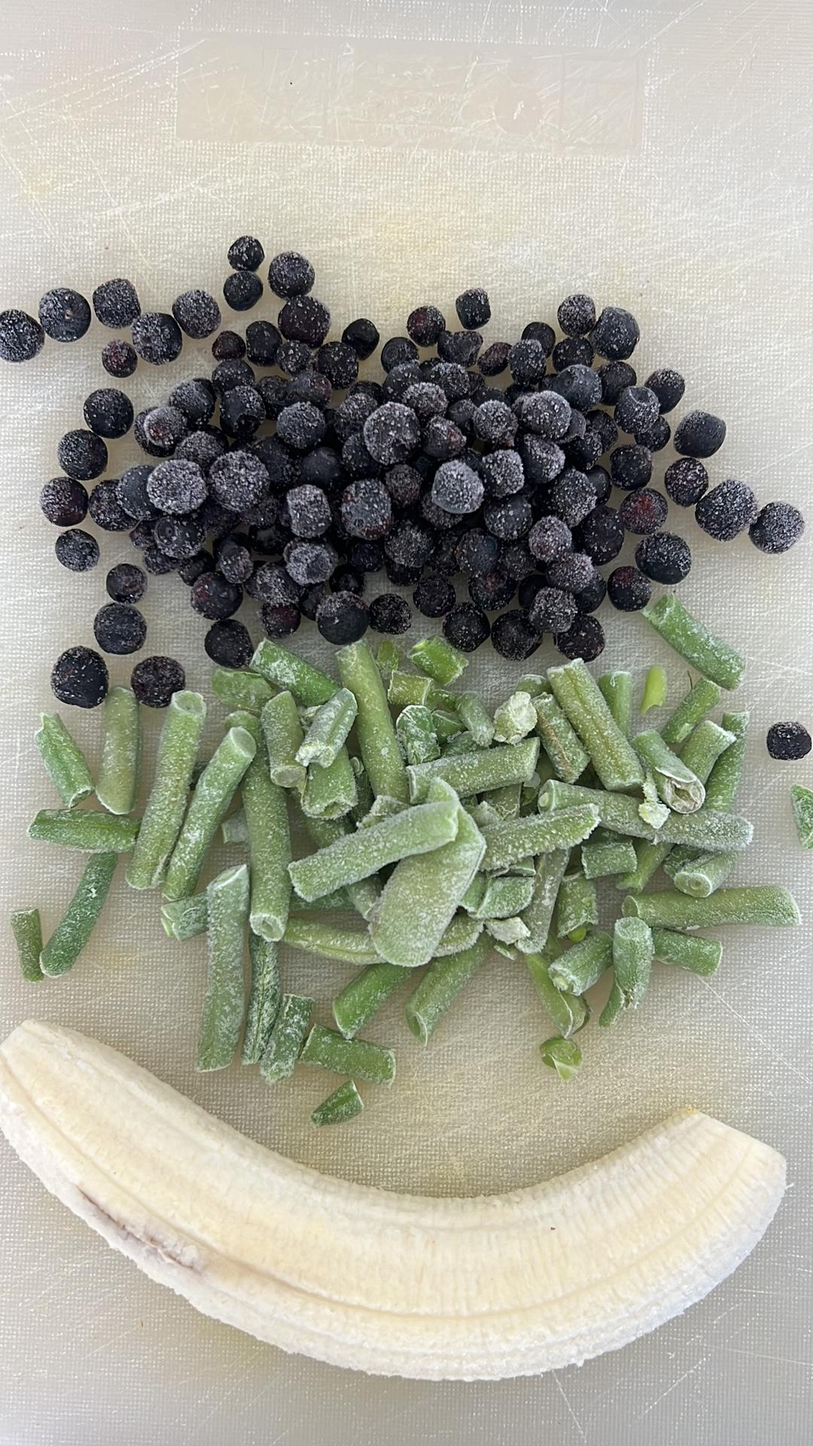blueberry: (697, 480, 752, 541), (369, 403, 417, 471), (50, 646, 107, 703), (636, 531, 693, 586), (317, 588, 368, 648), (385, 520, 440, 573), (574, 504, 622, 564), (81, 383, 132, 438), (750, 500, 803, 552), (150, 457, 199, 512), (126, 313, 181, 361), (340, 481, 387, 537), (544, 469, 595, 520), (283, 486, 332, 539), (96, 601, 143, 656), (285, 542, 345, 585), (56, 429, 108, 478), (132, 657, 182, 706), (212, 451, 261, 500), (205, 620, 252, 671), (311, 339, 362, 385), (437, 457, 480, 511), (214, 383, 261, 432), (172, 287, 218, 337), (303, 450, 353, 496), (256, 601, 311, 642), (276, 403, 327, 447), (95, 271, 136, 325), (456, 287, 500, 337), (40, 291, 83, 342), (116, 464, 155, 520), (269, 248, 315, 295), (596, 305, 640, 353), (281, 297, 326, 343), (530, 387, 568, 441), (156, 514, 202, 557), (43, 476, 84, 524), (523, 442, 571, 483), (554, 621, 607, 657), (662, 459, 711, 497), (0, 304, 35, 357), (90, 483, 125, 535), (493, 616, 545, 651), (252, 566, 302, 602), (218, 546, 258, 591), (169, 379, 211, 421), (56, 531, 99, 572), (458, 528, 501, 569), (677, 413, 721, 453), (434, 325, 480, 363), (382, 357, 420, 403), (474, 400, 515, 442), (598, 358, 641, 398), (452, 607, 487, 656), (370, 589, 407, 635), (196, 577, 237, 618), (178, 545, 215, 590), (481, 500, 528, 535), (769, 720, 809, 761), (256, 440, 295, 482), (145, 404, 183, 447), (624, 484, 657, 533), (315, 342, 355, 382), (404, 305, 444, 345), (555, 561, 597, 599), (620, 385, 656, 429), (343, 431, 376, 479), (612, 452, 653, 490), (420, 416, 461, 454), (288, 367, 330, 404), (420, 487, 457, 528), (470, 572, 513, 607), (563, 433, 607, 467), (534, 520, 568, 564), (251, 374, 291, 411), (347, 537, 387, 574), (558, 292, 594, 333), (483, 451, 519, 492), (431, 361, 472, 397), (213, 275, 263, 304), (478, 339, 516, 377), (575, 586, 623, 616), (232, 494, 278, 525), (226, 231, 264, 268), (637, 411, 672, 451), (202, 499, 237, 538), (535, 592, 575, 626), (513, 318, 554, 351), (611, 571, 652, 604), (647, 371, 687, 404), (408, 387, 449, 418), (378, 338, 419, 368), (499, 542, 534, 577), (586, 408, 620, 444), (517, 568, 548, 606), (209, 363, 256, 388), (108, 565, 140, 601), (513, 339, 537, 387), (132, 402, 154, 454), (343, 397, 373, 435), (390, 468, 420, 506), (558, 412, 594, 442), (276, 339, 311, 369), (182, 430, 218, 459), (585, 472, 616, 505), (246, 322, 271, 362), (104, 343, 134, 376), (206, 332, 237, 363), (245, 522, 276, 553), (130, 519, 159, 551), (348, 316, 370, 357), (420, 583, 448, 615), (143, 548, 169, 574)
green bean: (527, 772, 762, 854), (230, 713, 316, 937), (284, 792, 467, 892), (162, 719, 249, 892), (133, 690, 201, 889), (393, 786, 472, 956), (256, 903, 483, 958), (539, 659, 636, 786), (396, 729, 545, 804), (393, 933, 493, 1042), (33, 851, 116, 973), (642, 600, 748, 692), (466, 802, 602, 869), (304, 697, 375, 821), (353, 632, 398, 813), (208, 867, 245, 1075), (621, 894, 813, 932), (247, 631, 333, 712), (386, 667, 489, 733), (327, 965, 407, 1043), (293, 1024, 402, 1081), (619, 731, 697, 804), (29, 803, 138, 851), (708, 709, 759, 809), (266, 989, 321, 1075), (99, 689, 134, 815), (610, 918, 651, 1025), (40, 715, 88, 802), (527, 843, 561, 962), (555, 930, 613, 997), (662, 672, 718, 741), (403, 635, 462, 679), (9, 909, 46, 978), (160, 890, 207, 939), (311, 1089, 362, 1129), (784, 781, 813, 848)
